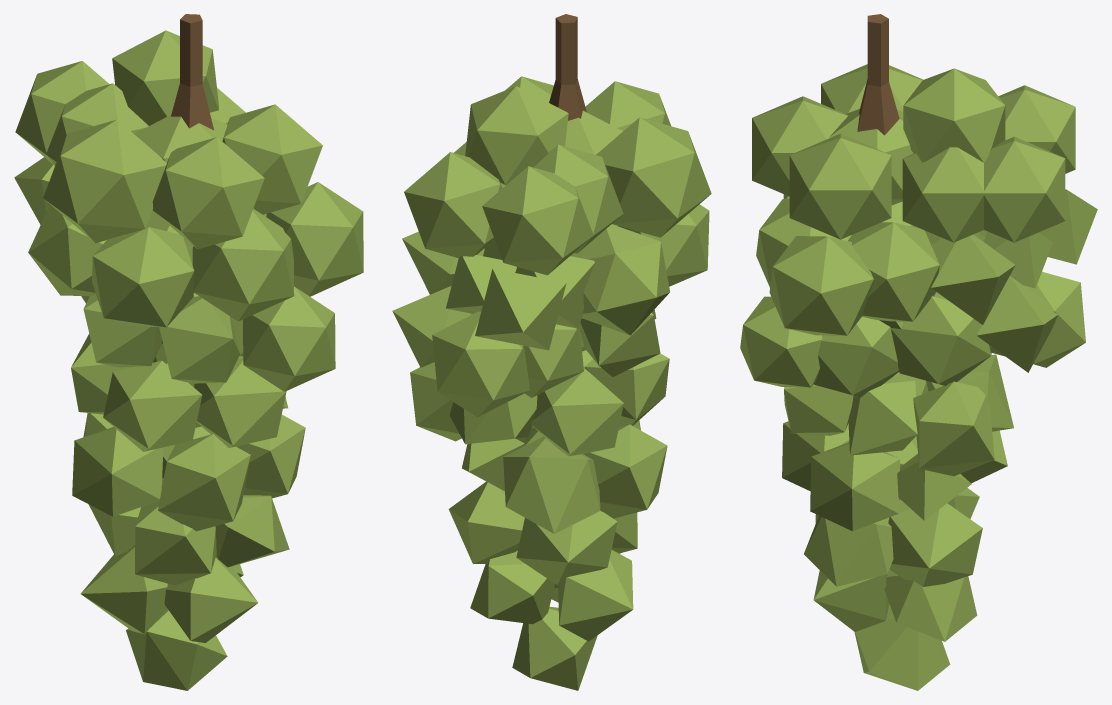
File: Grape_01.fbx
The picture shows the model from 3 angles, left to right: view 1: azimuth 30°, elevation 25°; view 2: azimuth 150°, elevation 25°; view 3: azimuth 270°, elevation 25°; orthographic projection. The views are drawn at different scales.
Parts seen in each view (by area): view 1: Grape_01; view 2: Grape_01; view 3: Grape_01.
Boxes of the visible parts, <box> form: Grape_01: <box>14,14,363,690</box>; Grape_01: <box>392,14,711,690</box>; Grape_01: <box>740,14,1097,690</box>.
Size of the model in its own units: 10.54 by 24.58 by 12.
